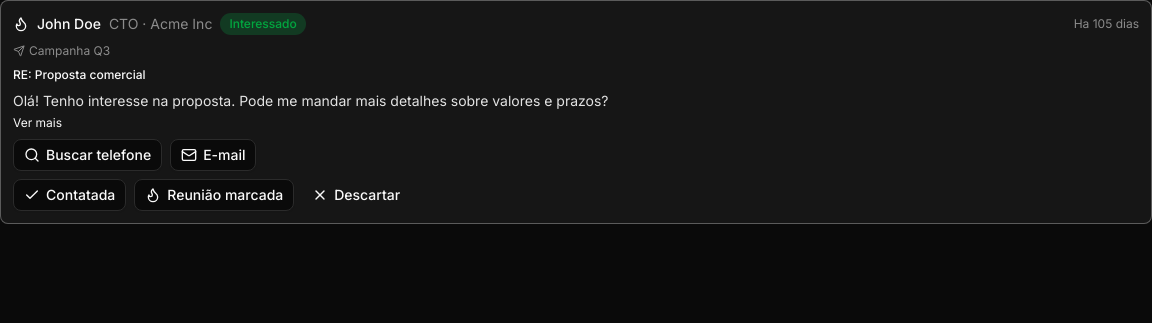
Test: OpportunityCard — Story 21.5 › Rascunho por IA (AC1/AC2/AC5) › falha na geração → mensagem discreta + Tentar de novo; o card NÃO quebra (AC5)
The image size is (1152, 323).
Click the element with test id "opportunity-card" at (46, 9), box [0,0,1151,224]
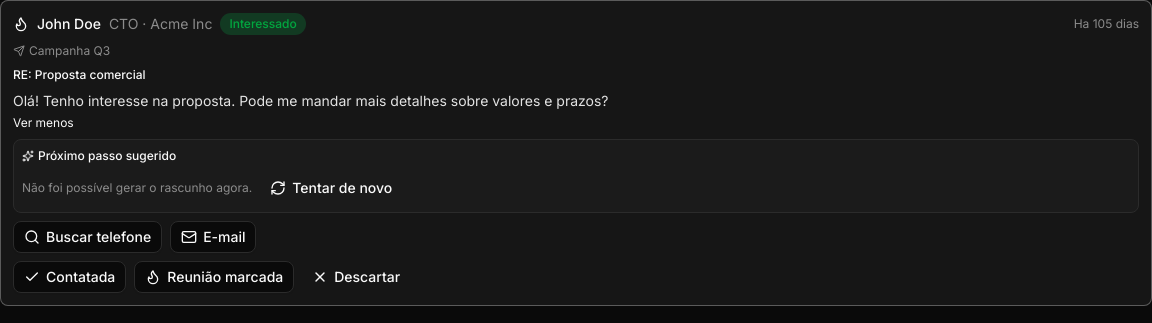
expect the element with test id "opportunity-triage" is shown: met, box [13,261,410,293]
expect the text "Não foi possível gerar o rascunho agora." is shown: met, box [22,180,252,196]
expect the button with test id "opportunity-draft-retry" is shown: met, box [260,172,402,204]
